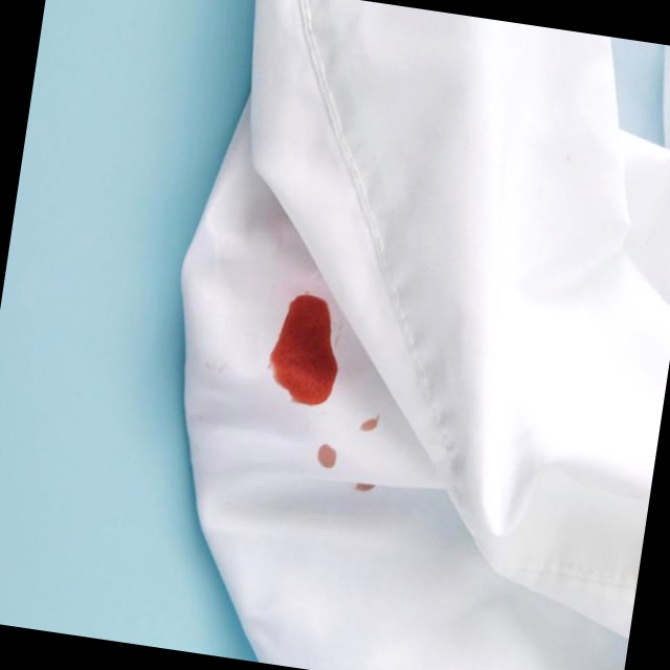blood: (259, 283, 357, 409), (307, 404, 391, 499)
